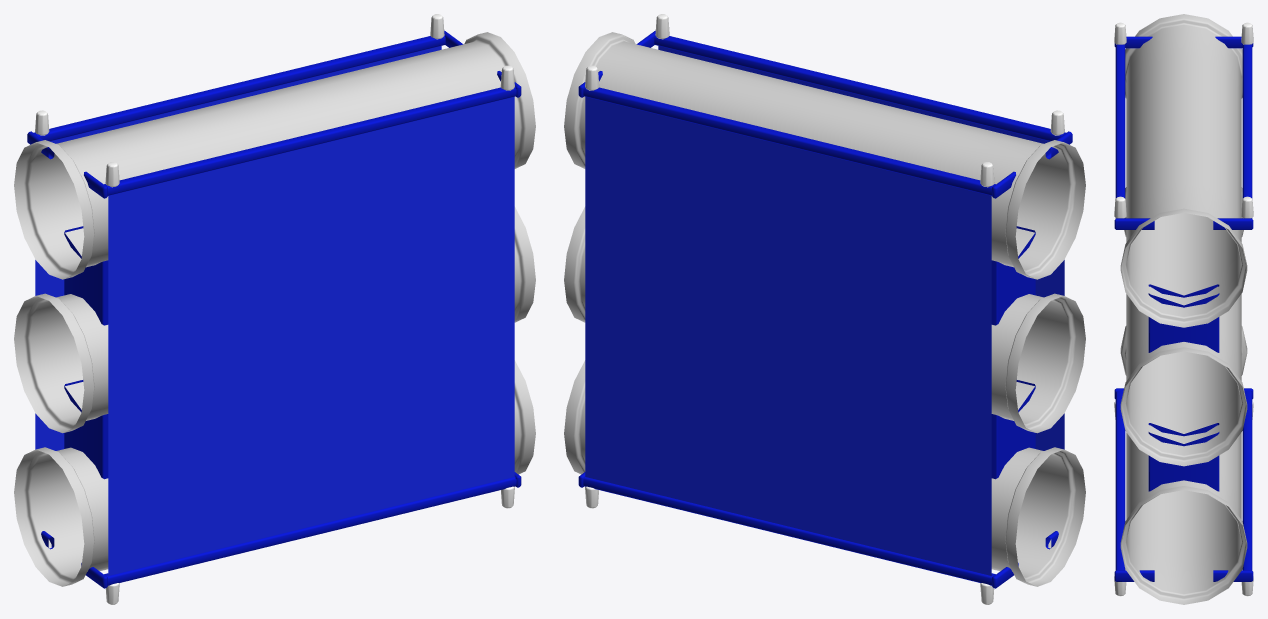
File: HighPressurePipesgg.fbx
3 renders of one model, left to right at view 1: azimuth 30°, elevation 25°; view 2: azimuth 150°, elevation 25°; view 3: azimuth 270°, elevation 25°, orthographic. The views are drawn at different scales.
Parts seen in each view (by area): view 1: SplinePipes; view 2: SplinePipes; view 3: SplinePipes.
Part boxes in pixels (x1,y1,x2,y2): SplinePipes: [14, 14, 535, 604]; SplinePipes: [564, 14, 1085, 604]; SplinePipes: [1114, 14, 1253, 604].
Size of what is drawn, in the model's own units: 400 by 372 by 119.
Materials: 3 (1 with a texture image).
